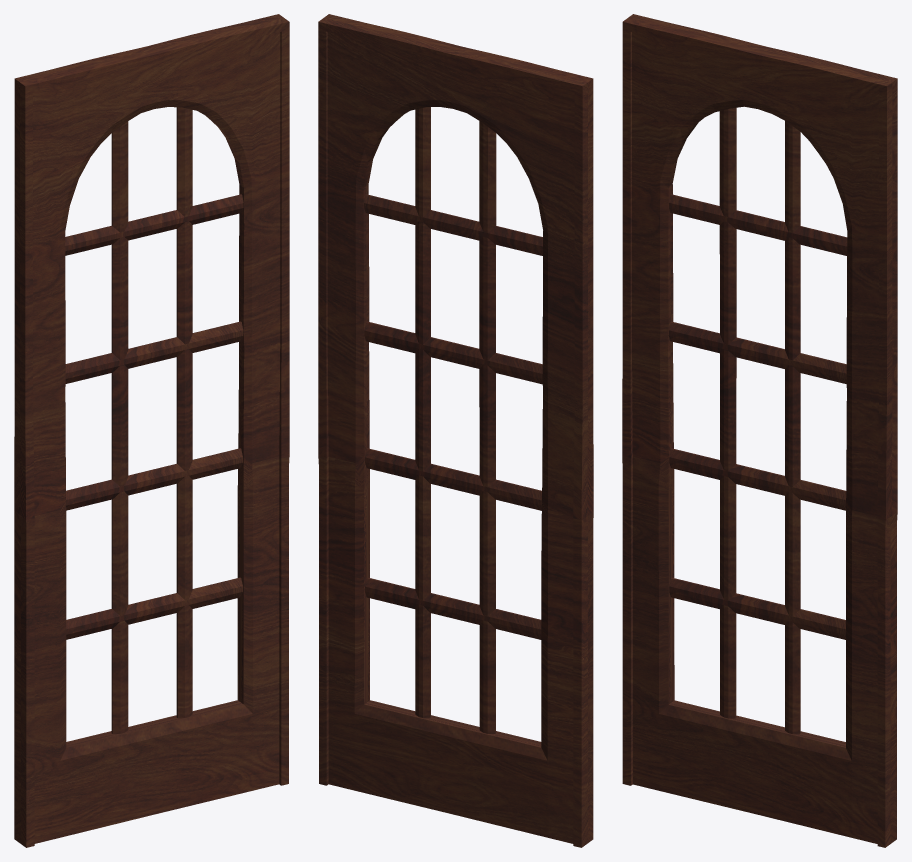
Rendered from PUERTA54_QUEEN.glb.
The picture shows the model from 3 angles, left to right: view 1: azimuth 30°, elevation 25°; view 2: azimuth 150°, elevation 25°; view 3: azimuth 330°, elevation 25°; orthographic projection.
Parts seen in each view (by area): view 1: Puerta54_QUEEN; view 2: Puerta54_QUEEN; view 3: Puerta54_QUEEN.
Boxes of the visible parts, box(x1,y1,x2,y2) form: Puerta54_QUEEN: box(14, 14, 289, 847); Puerta54_QUEEN: box(318, 14, 593, 847); Puerta54_QUEEN: box(622, 14, 897, 847).
Size of the model in its own units: 691 by 1904 by 53.96.
3 materials, 3 textured.
